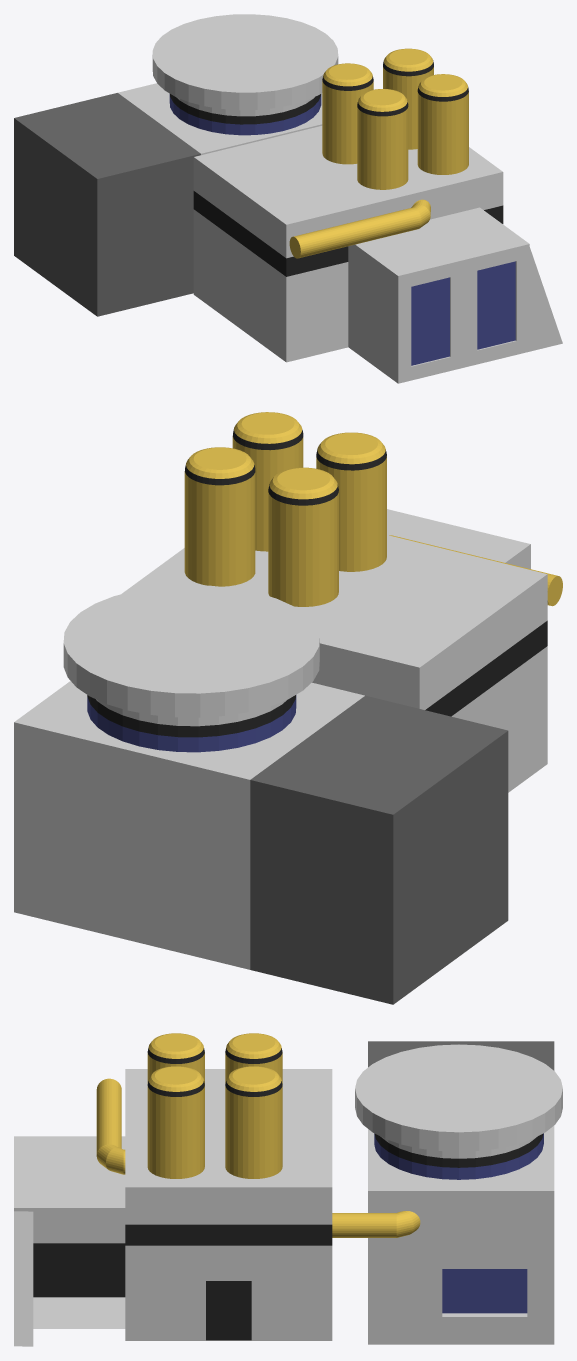
The model's file is OasenFactory.fbx.
3 views of the same model, one above another, from view 1: azimuth 30°, elevation 25°; view 2: azimuth 150°, elevation 25°; view 3: azimuth 270°, elevation 25° (orthographic). The views are drawn at different scales.
Visible parts, largest first — view 1: Cube; view 2: Cube; view 3: Cube.
Boxes of the visible parts, left/top/right/bottom form: Cube: left=14, top=14, right=562, bottom=383; Cube: left=14, top=412, right=562, bottom=1004; Cube: left=14, top=1033, right=562, bottom=1346.
Size of the model in its own units: 467 by 340 by 647.
